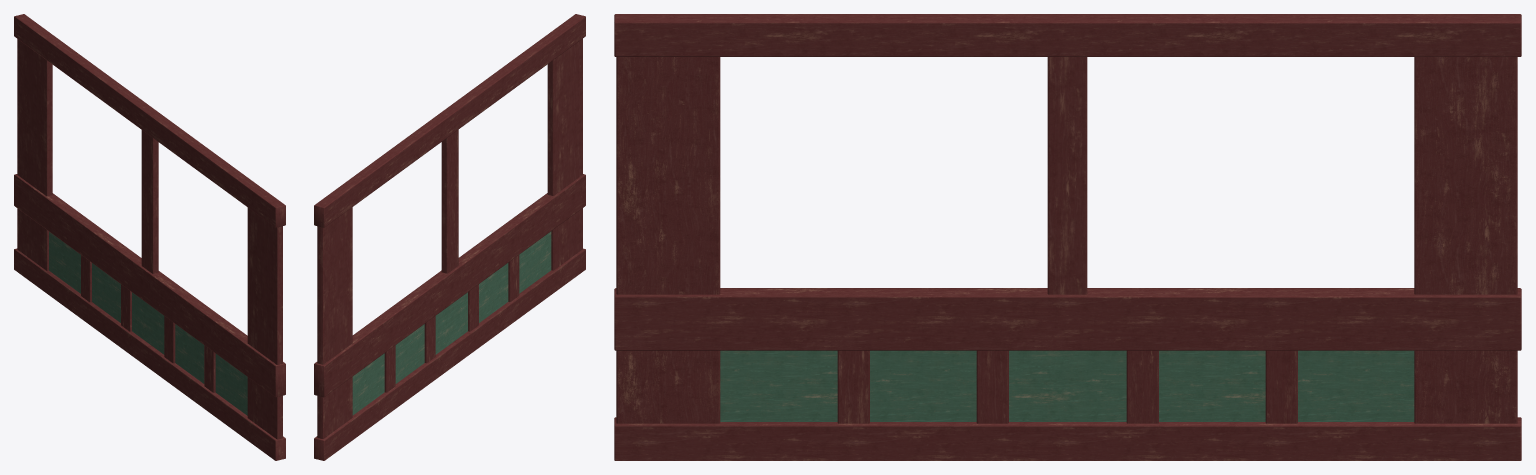
File: SM_Wall02c.fbx
3 views of the same model, side by side, from view 1: azimuth 30°, elevation 25°; view 2: azimuth 150°, elevation 25°; view 3: azimuth 270°, elevation 25° (orthographic). The views are drawn at different scales.
Parts seen in each view (by area): view 1: SM_Wall02c; view 2: SM_Wall02c; view 3: SM_Wall02c.
Boxes of the visible parts, x1,y1,x2,y2 form: SM_Wall02c: [14, 14, 285, 460]; SM_Wall02c: [314, 14, 585, 460]; SM_Wall02c: [614, 14, 1521, 460].
Size of the model in its own units: 7 by 300 by 160.
2 materials, 2 textured.
